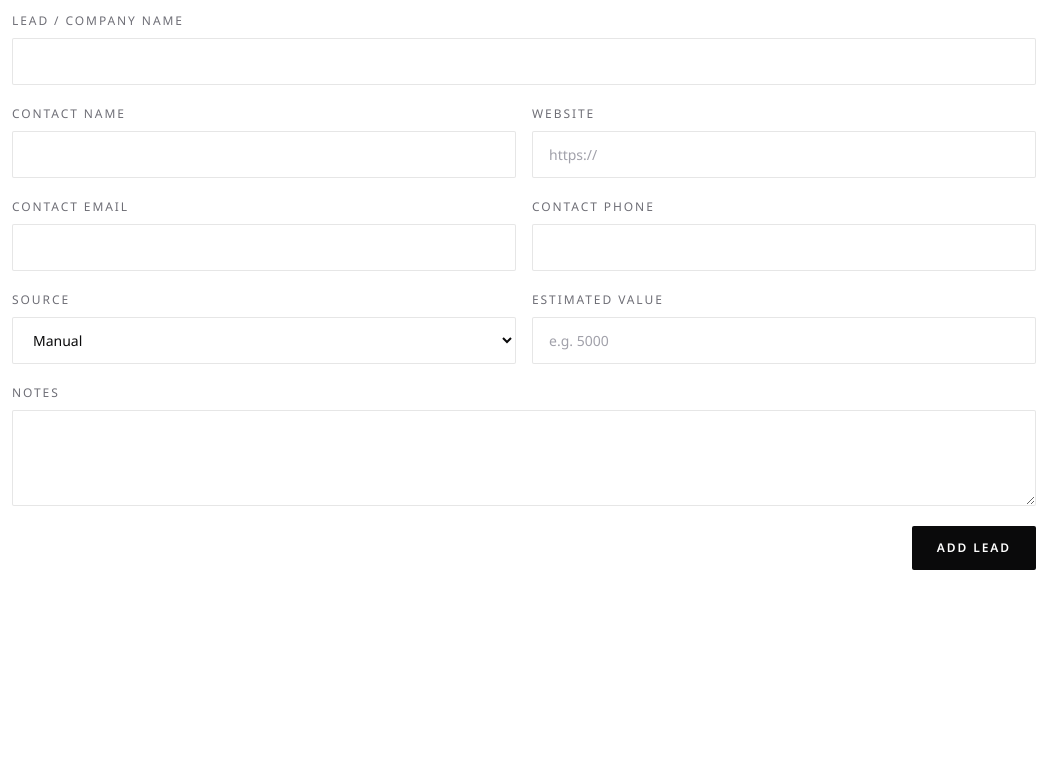
Test: LeadForm › requires a name
The image size is (1048, 780).
Click the button "Add lead". click: x=974, y=548
box: [912, 526, 1036, 570]
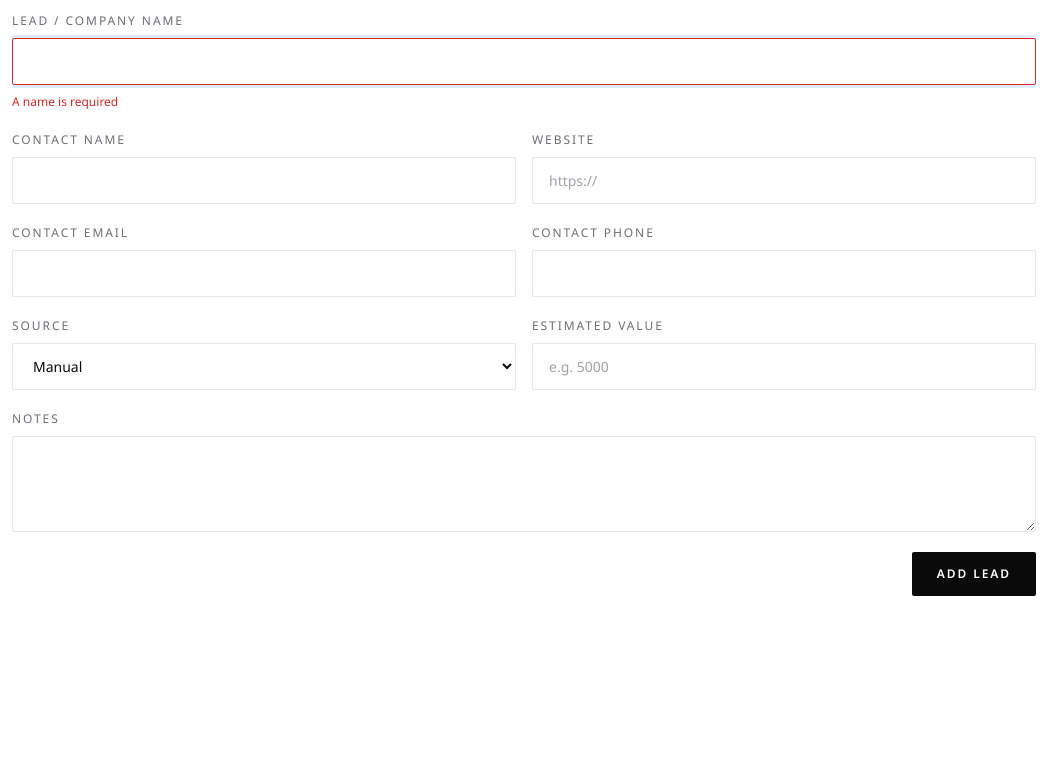
expect the text "A name is required" is shown: met, box [12, 93, 118, 110]
